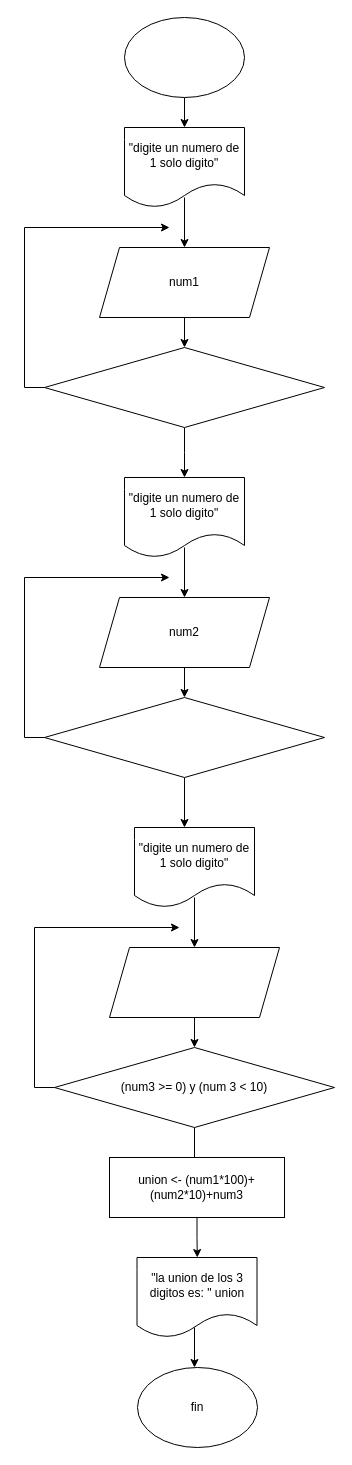
The diagram is 352 pixels wide and 1465 high, and some of its shapes have lost their labels. Here are the shapes that lost their labels. From the top down, the centre of each, then its label:
point (184, 57): inicio
point (184, 387): (num1 >= 0) y (num 1 < 10)
point (184, 737): (num2 >= 0) y (num 2 < 10)
point (194, 982): num3
